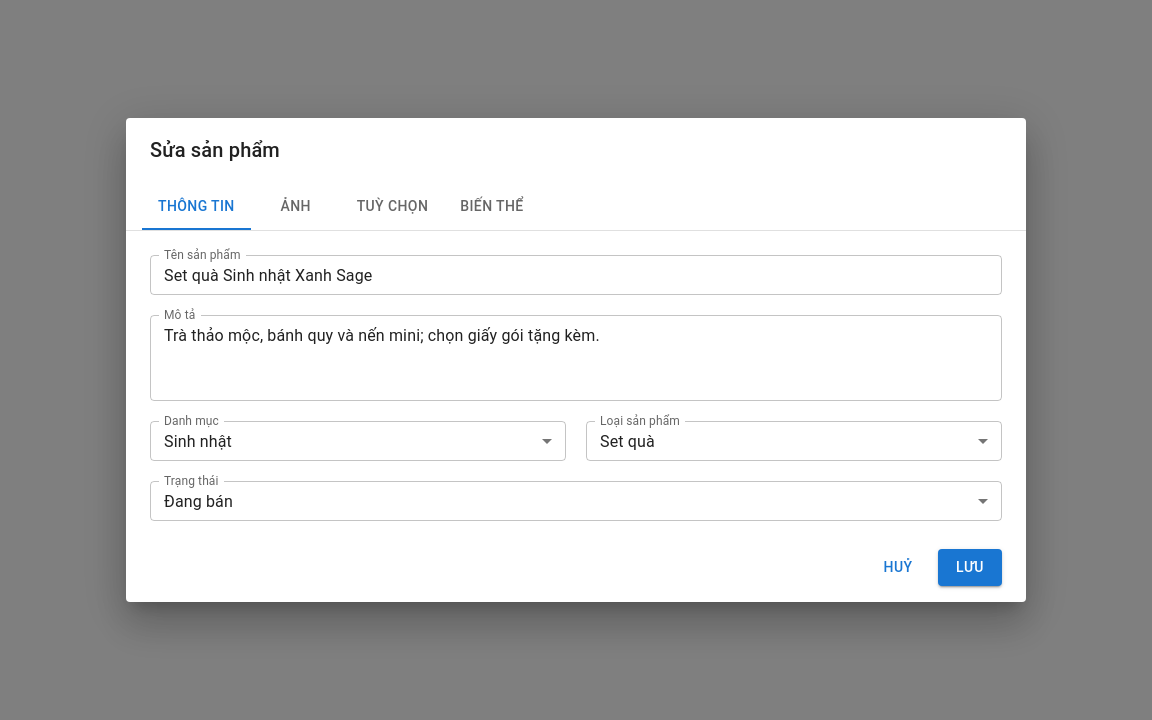
Test: ProductFormDialog › set quà: hiện thành phần và nhóm tuỳ chọn của biến thể; hộp quà hiện lòng hộp
What coordinates should you click on to do the following:
click the tab "Biến thể"
I would click on:
 (492, 206)
Its box is [444,182,540,230].
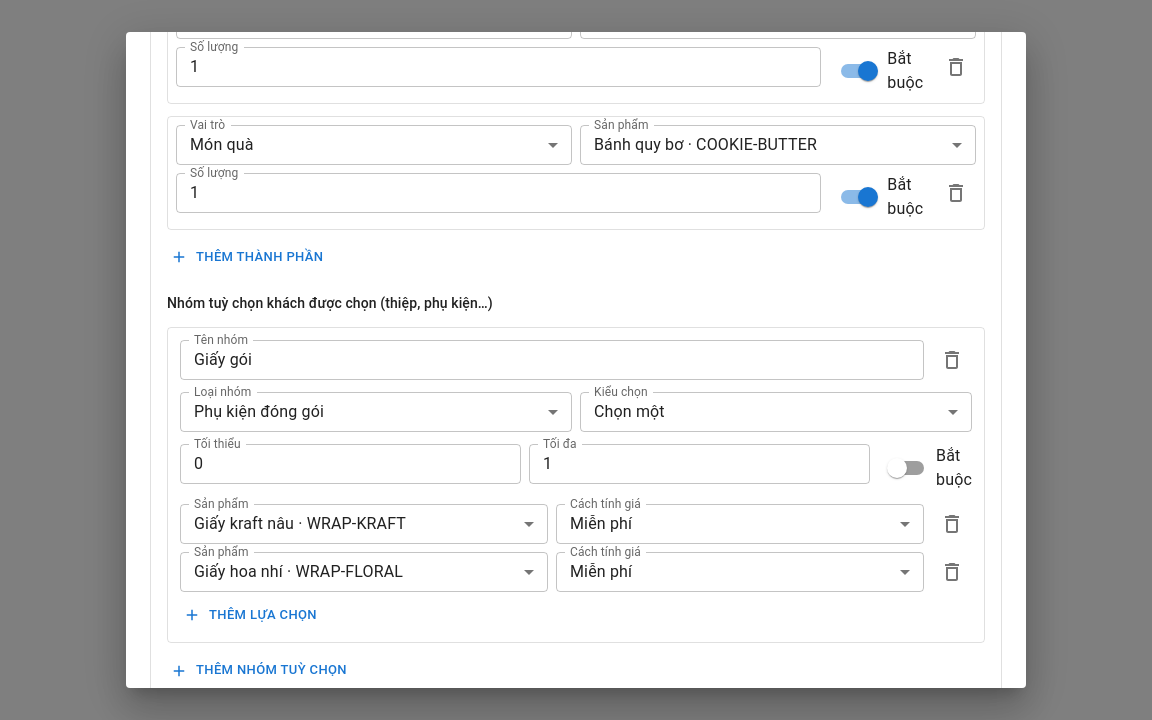
Now the field showing "Giấy gói" is shown, box [180,340,924,380]
